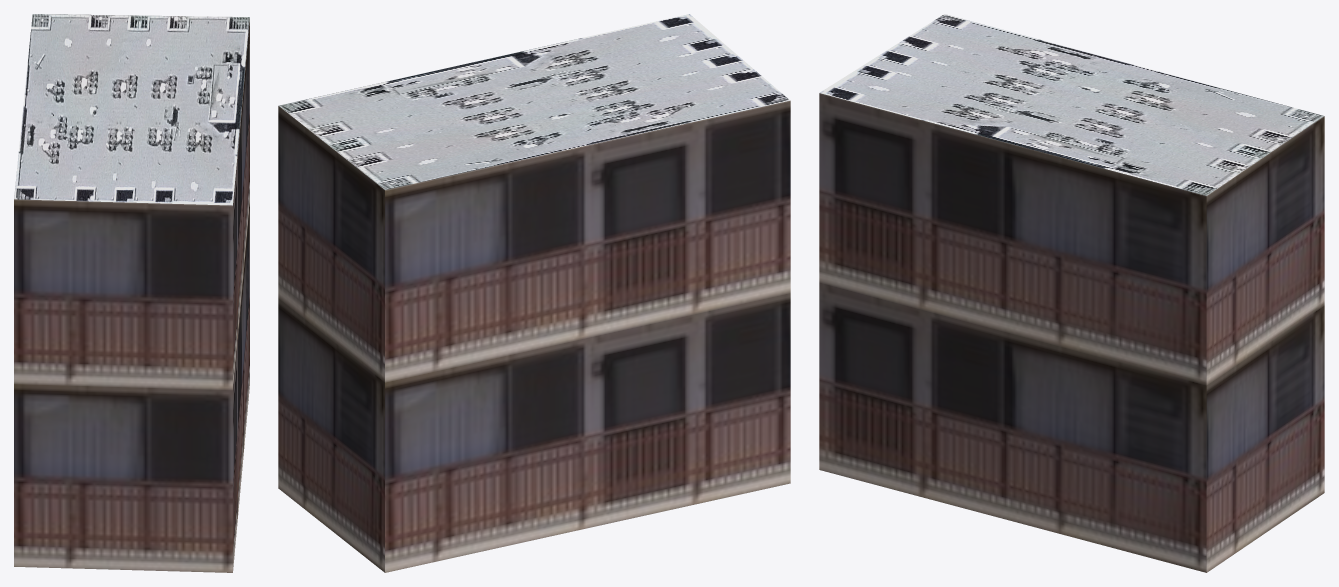
The model's file is ResTex__2314.fbx.
3 views of the same model, side by side, from view 1: azimuth 30°, elevation 25°; view 2: azimuth 150°, elevation 25°; view 3: azimuth 270°, elevation 25° (orthographic). The views are drawn at different scales.
Visible parts, largest first — view 1: CityEngineMaterial_6_m, CityEngineMaterial_4_m; view 2: CityEngineMaterial_6_m, CityEngineMaterial_4_m; view 3: CityEngineMaterial_6_m, CityEngineMaterial_4_m.
Part boxes in pixels (left/top/right/bottom): CityEngineMaterial_6_m: left=14, top=19, right=249, bottom=572; CityEngineMaterial_4_m: left=14, top=14, right=249, bottom=205; CityEngineMaterial_6_m: left=278, top=100, right=790, bottom=572; CityEngineMaterial_4_m: left=279, top=14, right=789, bottom=189; CityEngineMaterial_6_m: left=819, top=93, right=1324, bottom=572; CityEngineMaterial_4_m: left=820, top=14, right=1324, bottom=195.
Bounding box in the file's own units: 6.22 × 6 × 7.29.
Materials: 2 (2 with a texture image).
